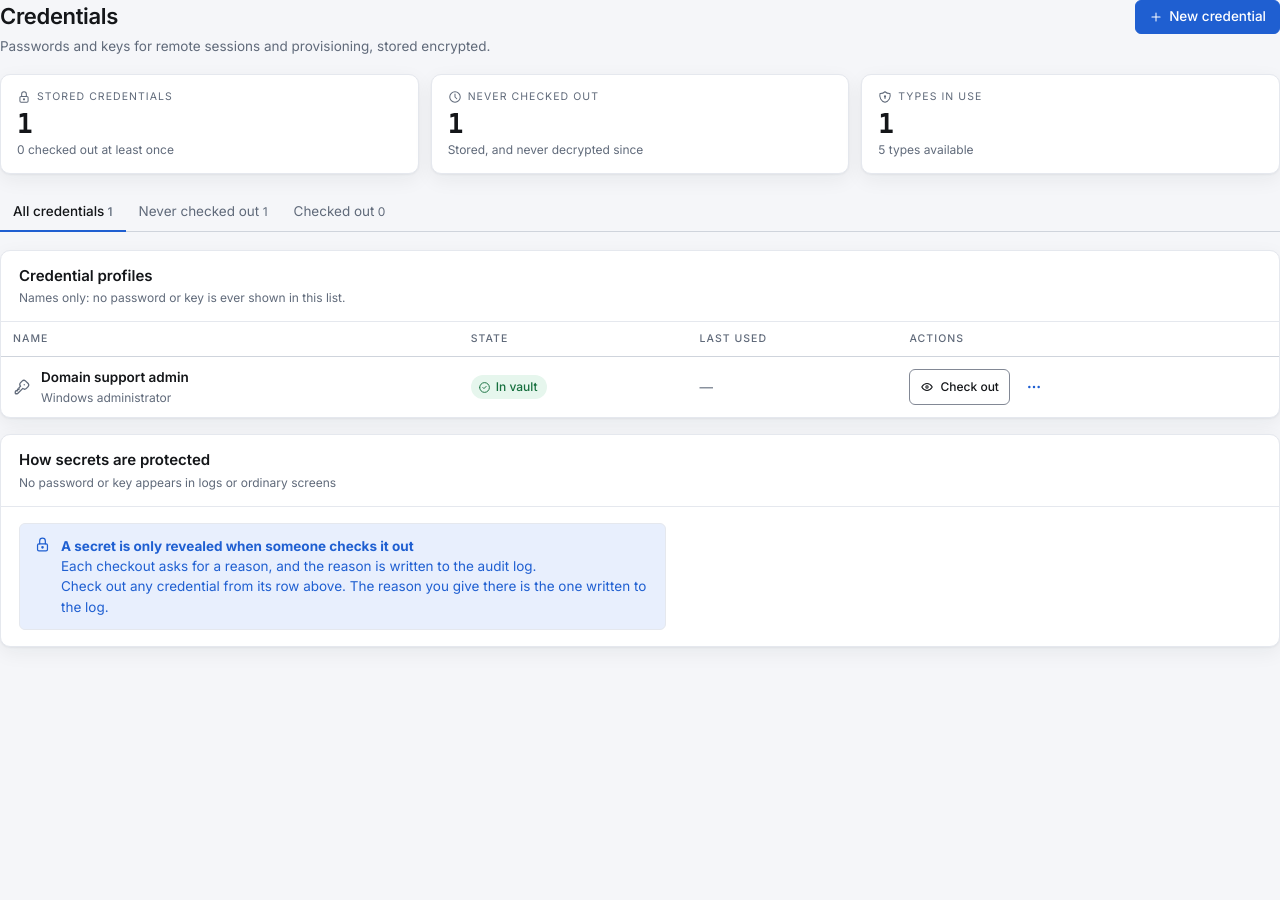
Test case: CredentialsPage's checkout form › keeps Reveal enabled with no reason and names the field
The width and height of the screenshot is (1280, 900).
Expected: the text "Domain support admin" is shown, [41,367,189,387]
Click the button "Check out": click(960, 387) [910,369,1010,405]
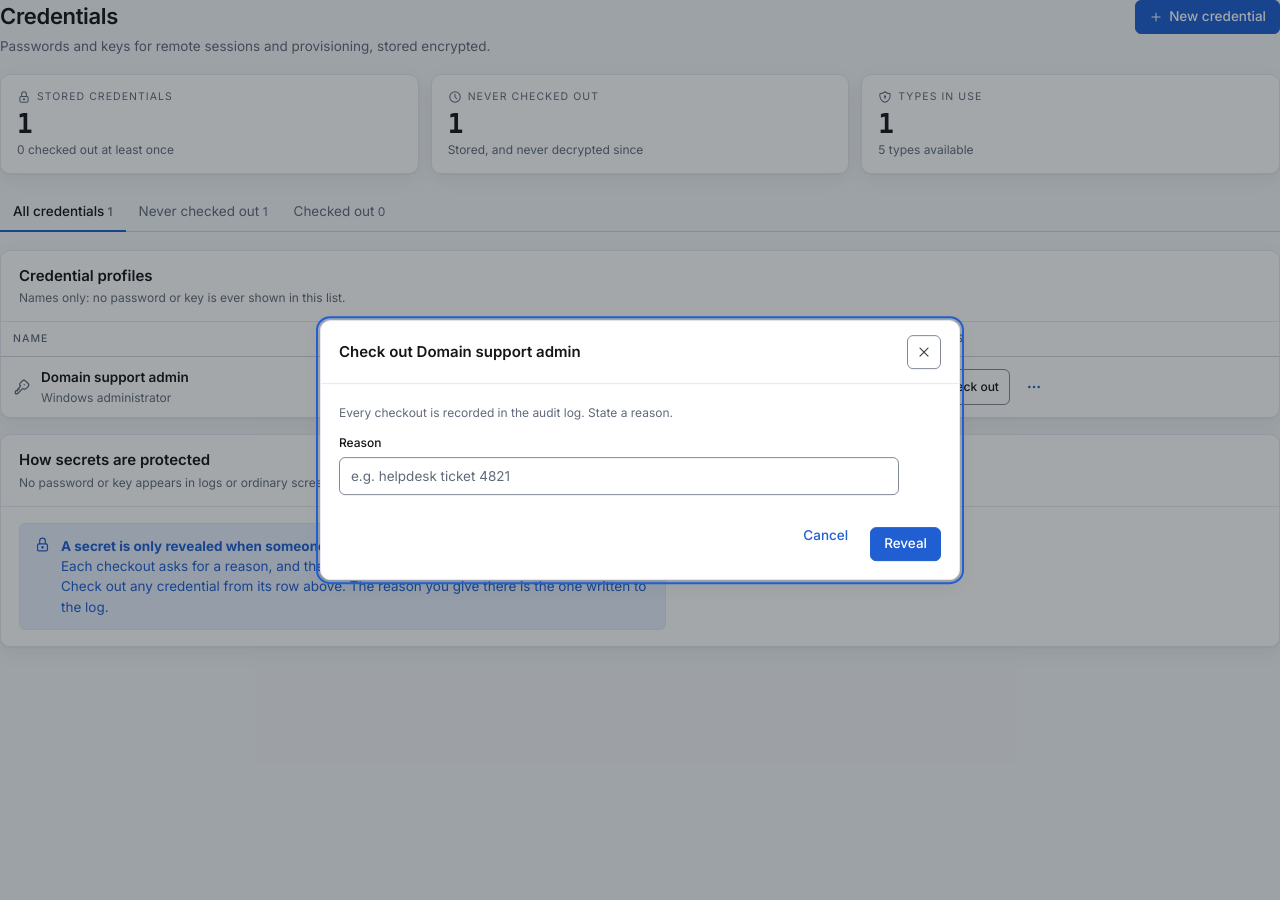
Now the button "Reveal" is enabled
Click the button "Reveal": click(906, 544) [870,527,941,561]
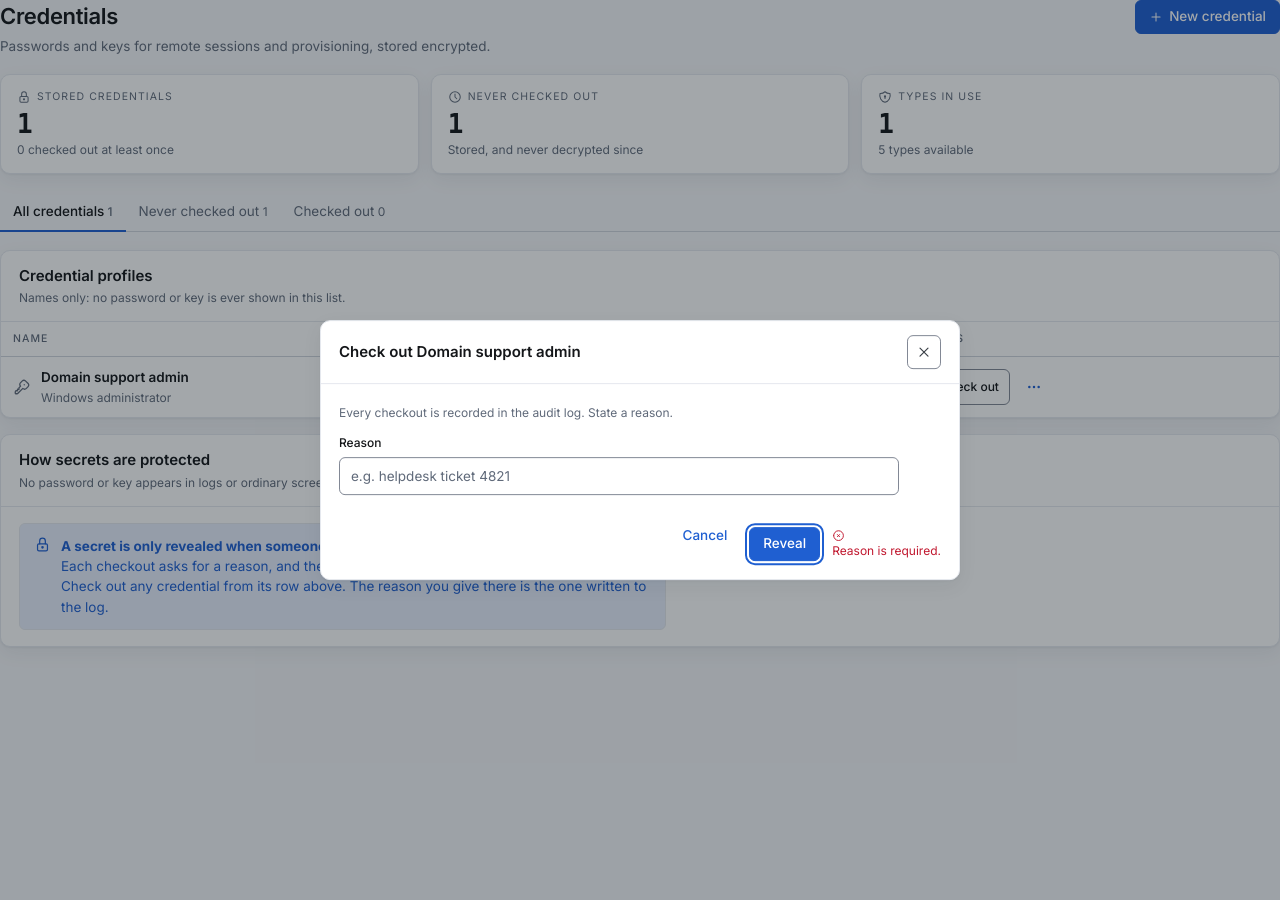
Now the dialog "Domain support admin" is shown, box [320,320,960,580]
Now the message shows "Reason is required", box [832,543,938,558]
